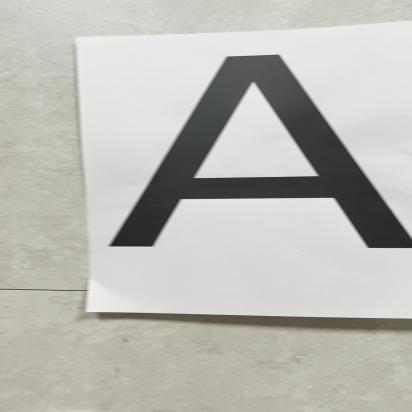seat: (120, 46, 412, 262)
